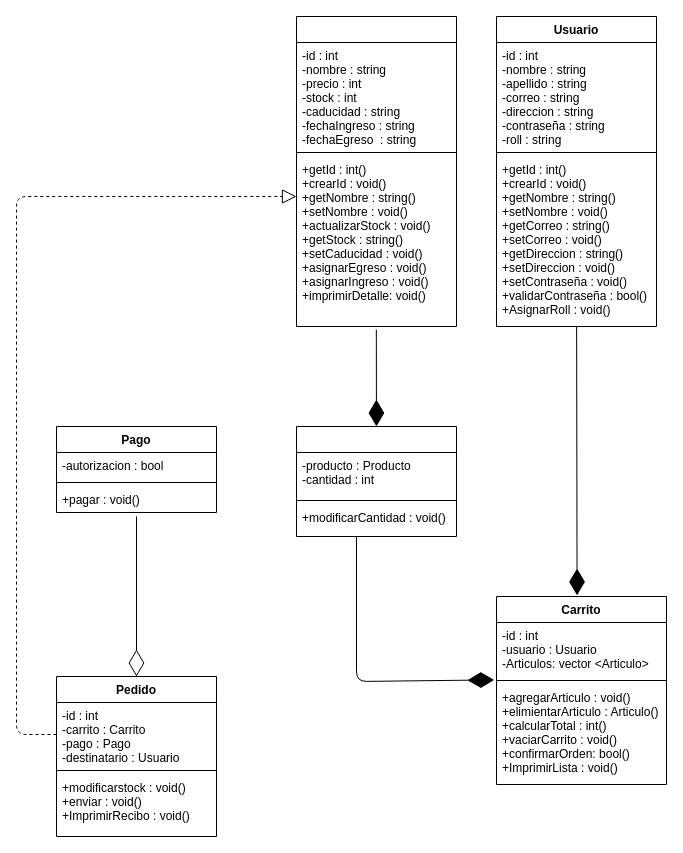
The diagram is 683 pixels wide and 853 high, and some of its shapes have lost their labels. The shapes that lost their labels are listed below. From the top down, each one's box as (x1, y1, x2, y2) in pixels, then its label:
(296, 16, 456, 326): Producto
(296, 426, 456, 536): Articulo
